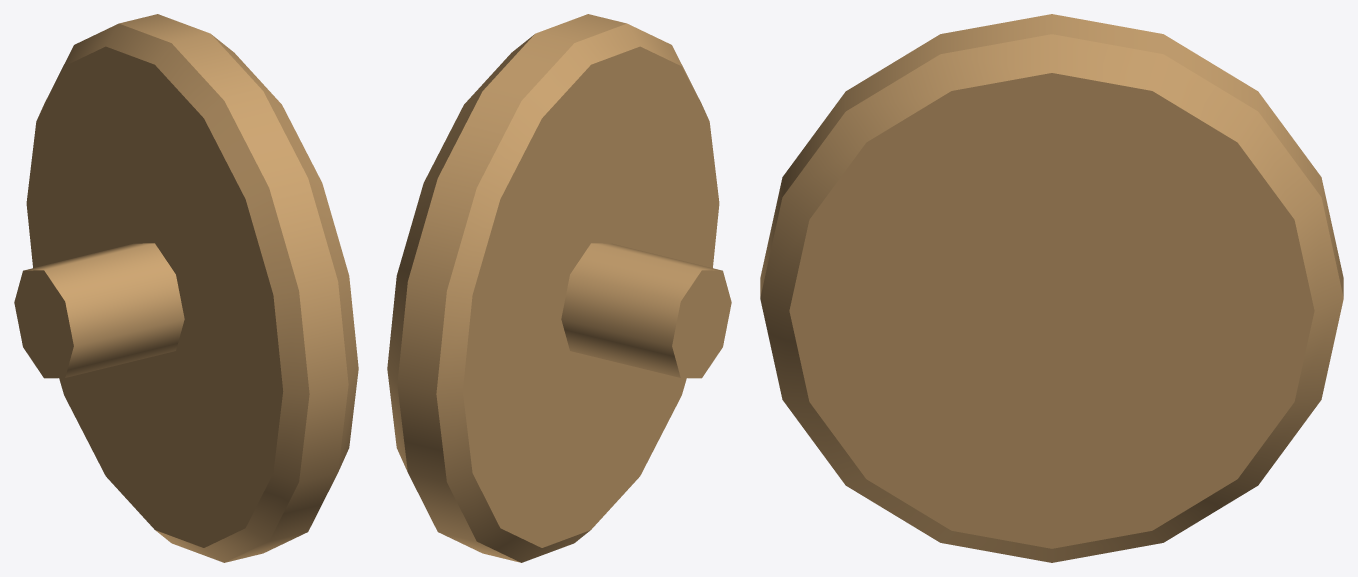
Rendered from Wheel.fbx.
3 renders of one model, left to right at view 1: azimuth 30°, elevation 25°; view 2: azimuth 150°, elevation 25°; view 3: azimuth 270°, elevation 25°, orthographic. The views are drawn at different scales.
Parts seen in each view (by area): view 1: Wheel; view 2: Wheel; view 3: Wheel.
Part boxes in pixels (bbox=[...]): Wheel: bbox=[14, 14, 358, 562]; Wheel: bbox=[387, 14, 731, 562]; Wheel: bbox=[760, 14, 1343, 562].
Size of the model in its own units: 4.78 by 12 by 12.
